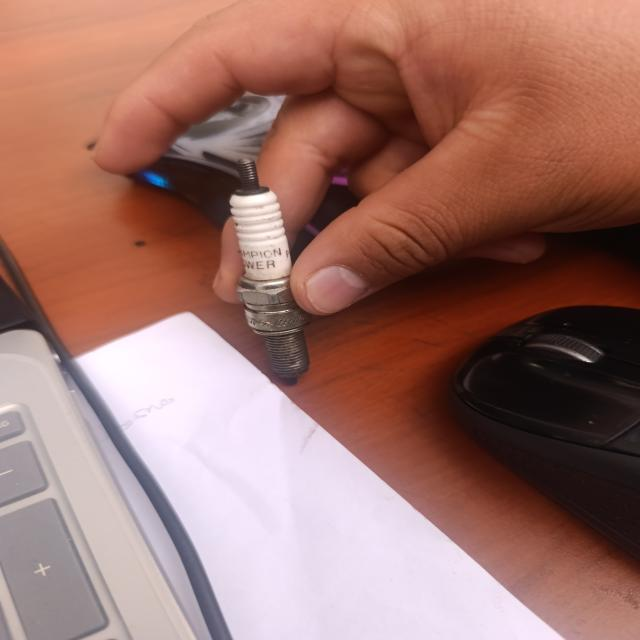bujia: (230, 159, 309, 380)
